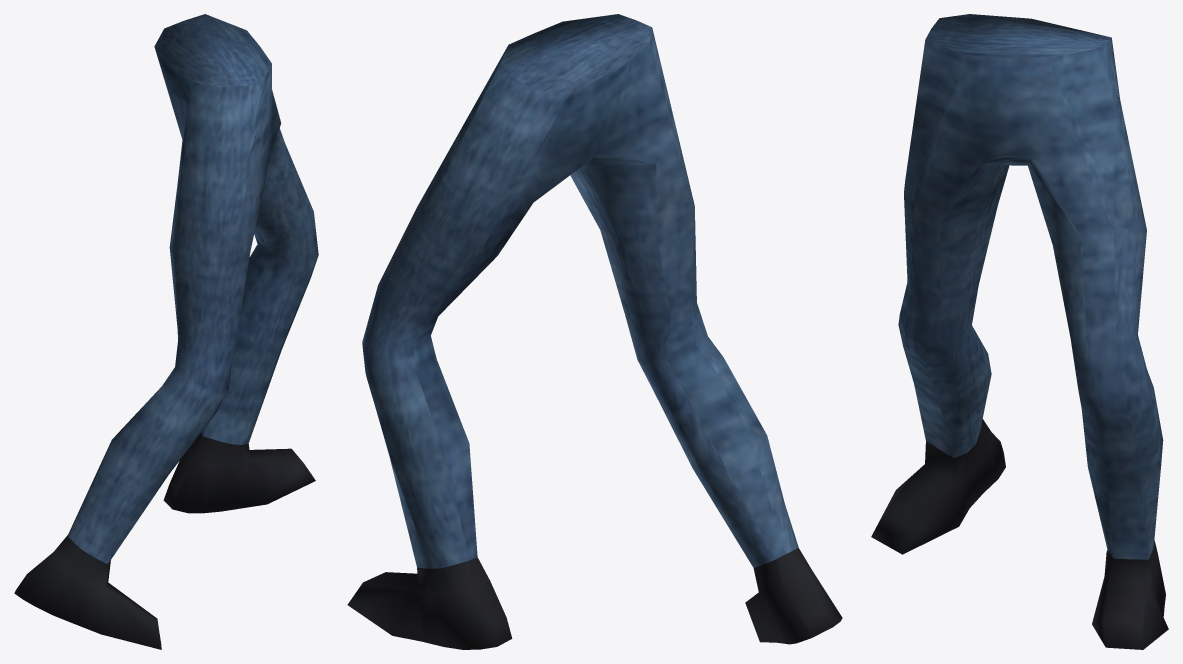
The model's file is PlayerLegs2.obj.
3 views of the same model, side by side, from view 1: azimuth 30°, elevation 25°; view 2: azimuth 150°, elevation 25°; view 3: azimuth 270°, elevation 25° (orthographic). The views are drawn at different scales.
Visible parts, largest first — view 1: Legs; view 2: Legs; view 3: Legs.
Part boxes in pixels (x1,y1,x2,y2): Legs: [14, 14, 318, 649]; Legs: [347, 14, 842, 649]; Legs: [871, 14, 1168, 649].
Bounding box in the file's own units: 3.36 × 4.72 × 2.2.
1 material, 1 textured.
